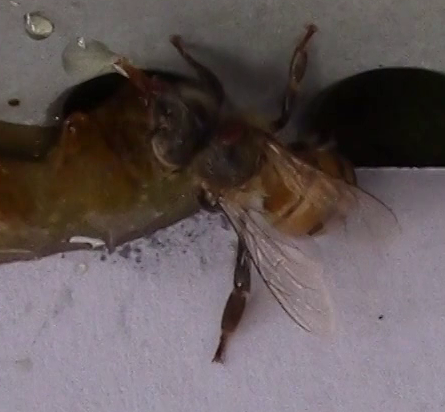Varroa destructor: (215, 120, 245, 146)
